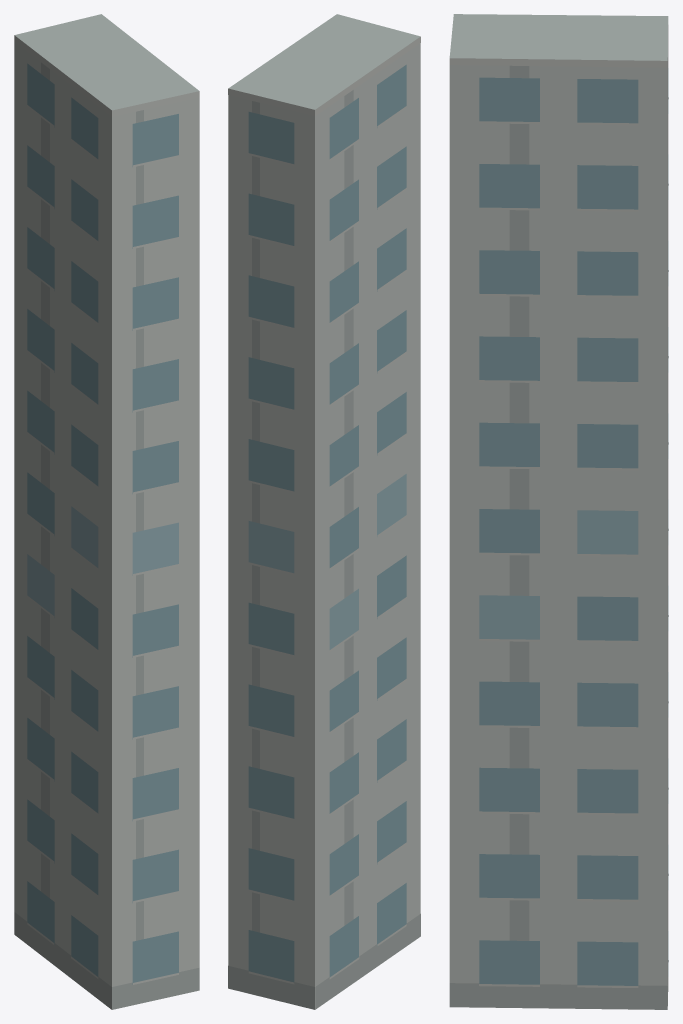
The model's file is survey-upis-32696911.glb.
3 renders of one model, left to right at view 1: azimuth 30°, elevation 25°; view 2: azimuth 150°, elevation 25°; view 3: azimuth 270°, elevation 25°, orthographic. The views are drawn at different scales.
Visible parts, largest first — view 1: survey-upis-32696911.tmp; view 2: survey-upis-32696911.tmp; view 3: survey-upis-32696911.tmp.
Part boxes in pixels (x1=…): survey-upis-32696911.tmp: x1=14, y1=14, x2=199, y2=1009; survey-upis-32696911.tmp: x1=228, y1=14, x2=420, y2=1009; survey-upis-32696911.tmp: x1=449, y1=14, x2=668, y2=1009.
Bounding box in the file's own units: 3.56 × 33.55 × 7.02.
